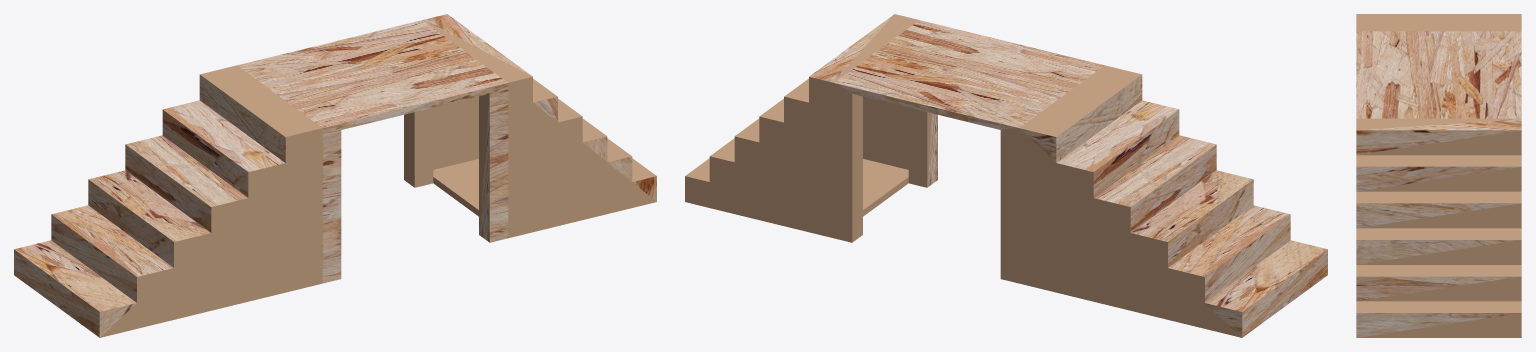
The picture shows the model from 3 angles, left to right: view 1: azimuth 30°, elevation 25°; view 2: azimuth 150°, elevation 25°; view 3: azimuth 270°, elevation 25°; orthographic projection. The views are drawn at different scales.
Parts seen in each view (by area): view 1: base_link; view 2: base_link; view 3: base_link.
Part boxes in pixels (<box>): base_link: <box>14,14,656,337</box>; base_link: <box>685,14,1327,337</box>; base_link: <box>1356,14,1521,337</box>.
Bounding box in the file's own units: 4.5 × 1.2 × 1.2.
Materials: 1 (1 with a texture image).
